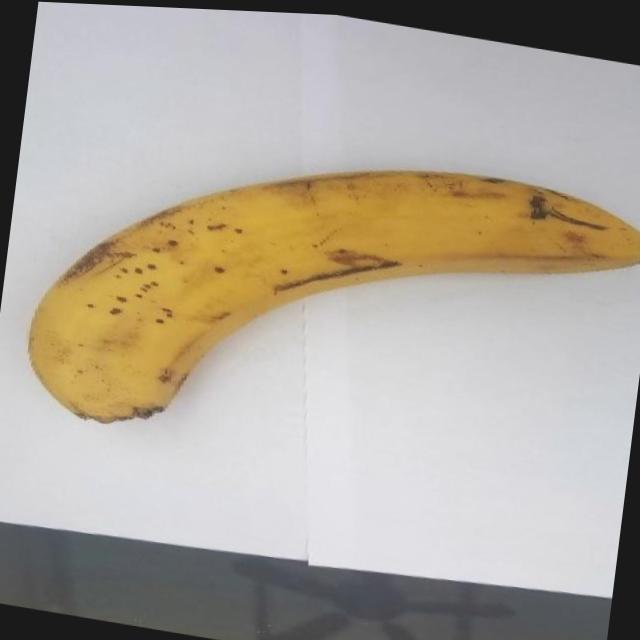Banana: (18, 102, 640, 507)
